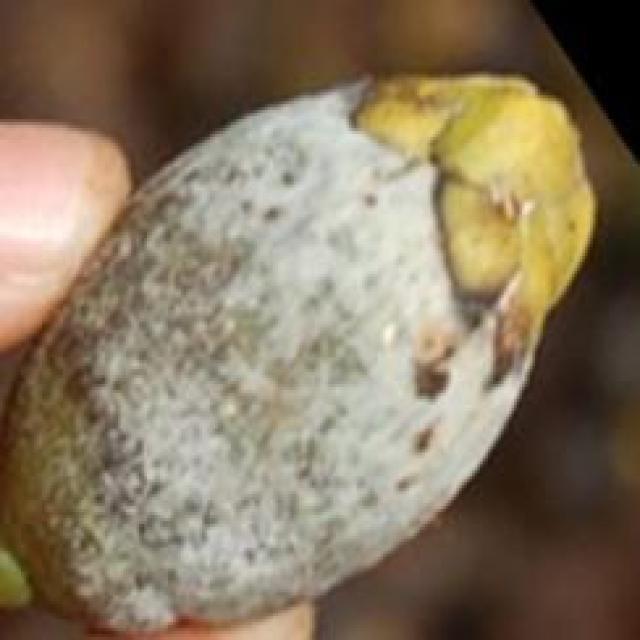damaged: (0, 74, 601, 637)
